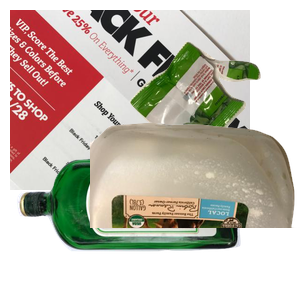glass: (14, 150, 247, 300)
paper: (10, 10, 250, 190)
plastic: (90, 120, 300, 300)
trash: (127, 39, 300, 193)
